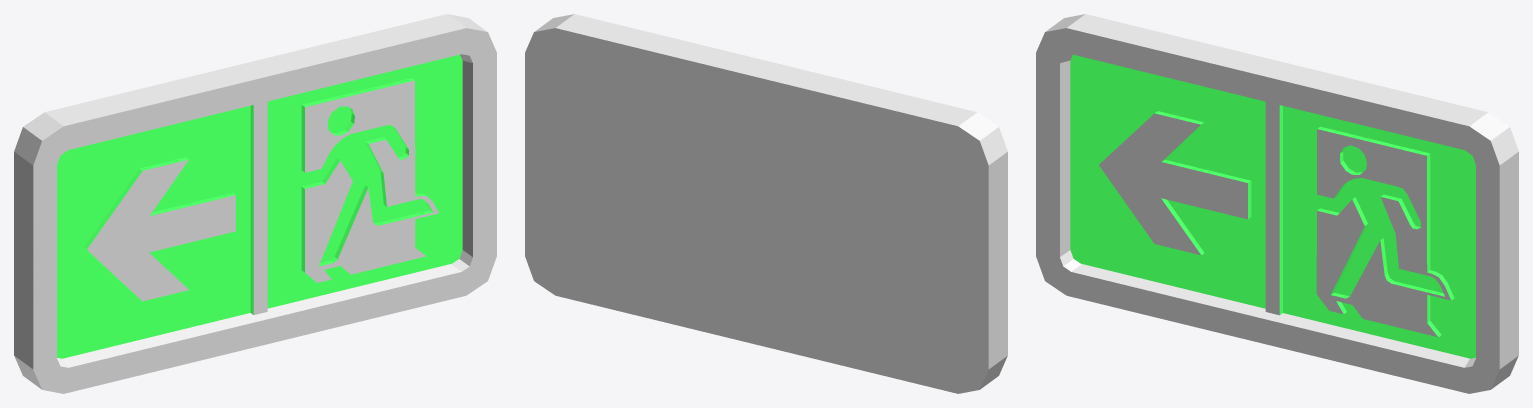
Rendered from sign-exit.fbx.
3 views of the same model, side by side, from view 1: azimuth 30°, elevation 25°; view 2: azimuth 150°, elevation 25°; view 3: azimuth 330°, elevation 25° (orthographic).
Parts seen in each view (by area): view 1: sign exit; view 2: sign exit; view 3: sign exit.
Part boxes in pixels (x1,y1,x2,y2): sign exit: (14,14,496,393); sign exit: (525,14,1007,393); sign exit: (1036,14,1518,393).
Bounding box in the file's own units: 1.11 × 0.6112 × 0.0795.
Materials: 2 (1 with a texture image).
